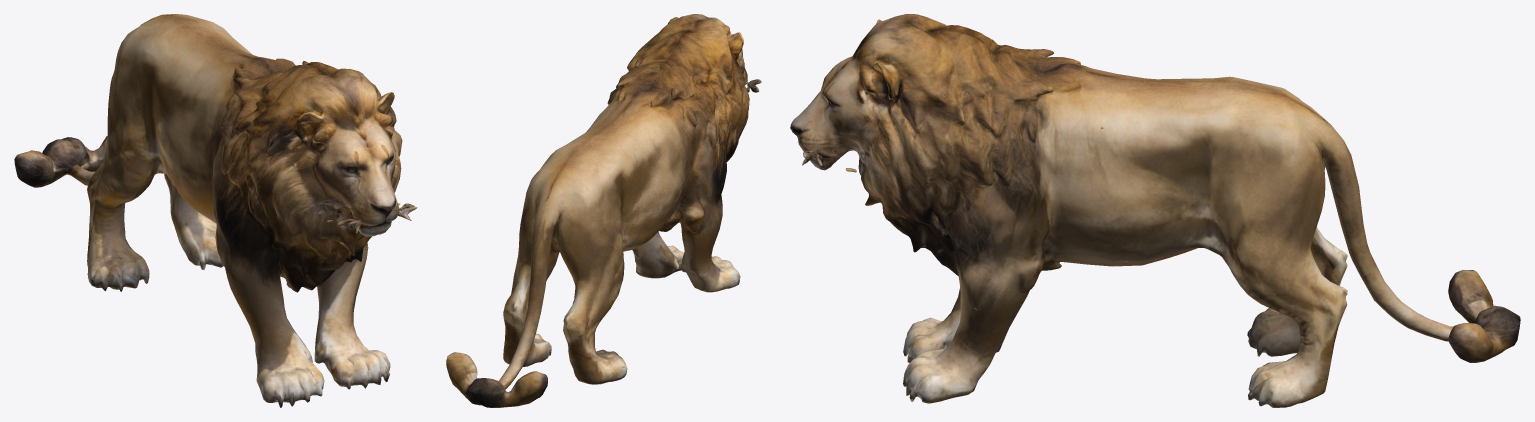
File: lion.glb
3 views of the same model, side by side, from view 1: azimuth 30°, elevation 25°; view 2: azimuth 150°, elevation 25°; view 3: azimuth 270°, elevation 25° (orthographic). The views are drawn at different scales.
Size of the model in its own units: 0.5345 by 1.06 by 2.
Materials: 1 (1 with a texture image).
